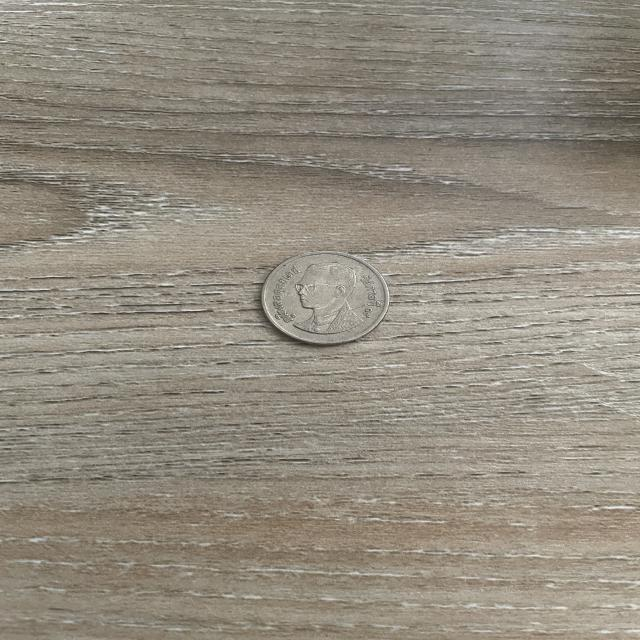1 Bath: (245, 241, 402, 356)
